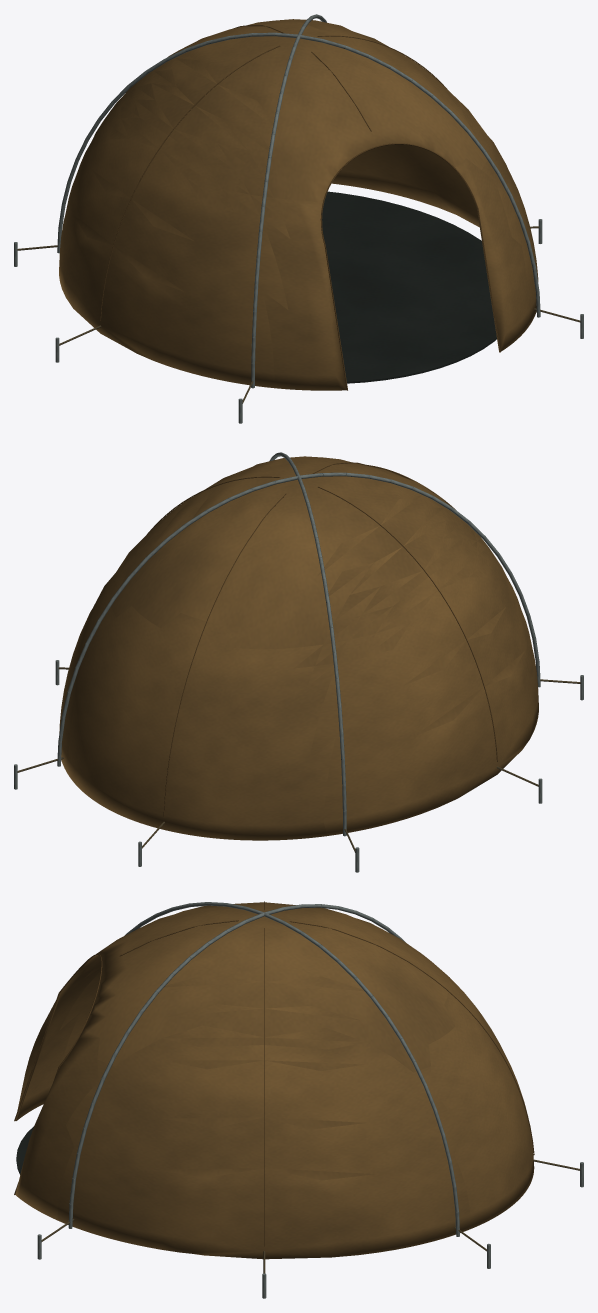
The model's file is level_camp_tent_fitted_pitch_02.glb.
3 views of the same model, one above another, from view 1: azimuth 30°, elevation 25°; view 2: azimuth 150°, elevation 25°; view 3: azimuth 270°, elevation 25° (orthographic).
Visible parts, largest first — view 1: level_camp_tent_fitted_pitch_02; view 2: level_camp_tent_fitted_pitch_02; view 3: level_camp_tent_fitted_pitch_02.
Part boxes in pixels (x1,y1,x2,y2): level_camp_tent_fitted_pitch_02: [14, 14, 583, 423]; level_camp_tent_fitted_pitch_02: [14, 452, 583, 872]; level_camp_tent_fitted_pitch_02: [14, 901, 583, 1298].
Bounding box in the file's own units: 3.44 × 1.85 × 3.49.
5 materials, 5 textured.
